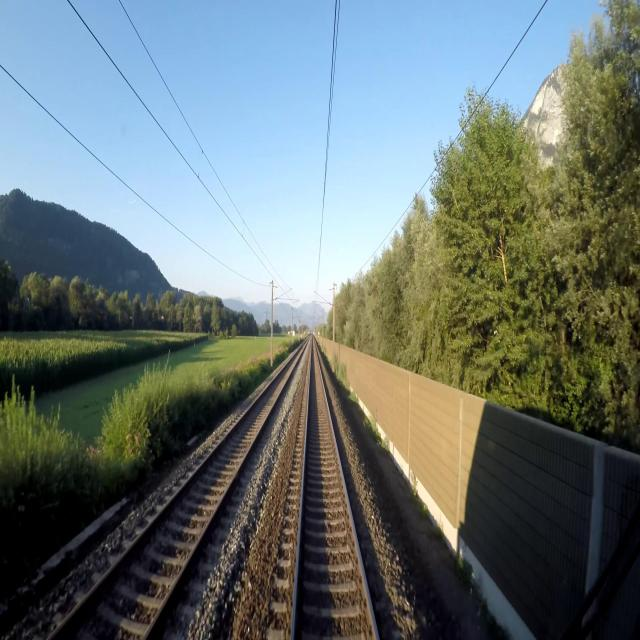rail-track: (53, 352, 299, 639), (295, 345, 375, 639)
